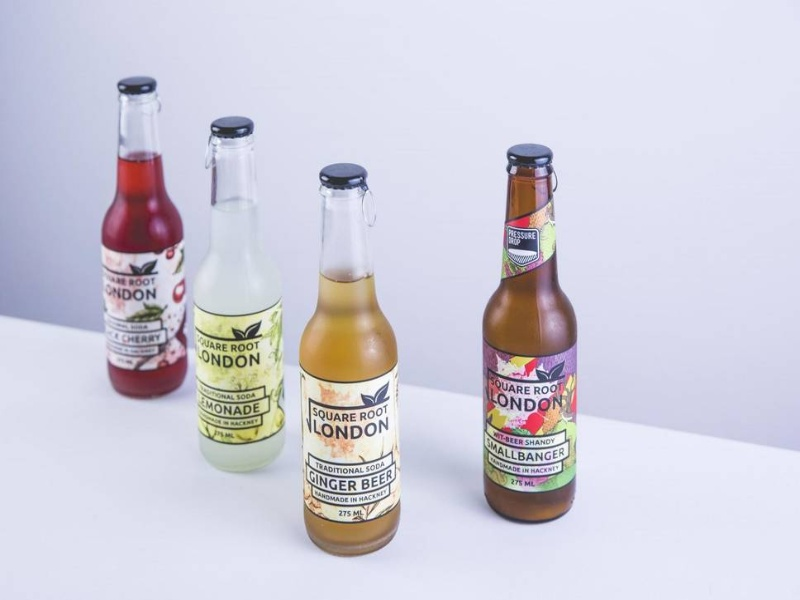Glass bottle: (447, 127, 606, 541), (282, 150, 425, 574), (70, 43, 205, 422), (174, 112, 305, 496)
